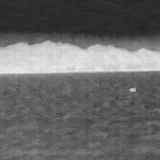Target: (128, 87, 137, 93)
